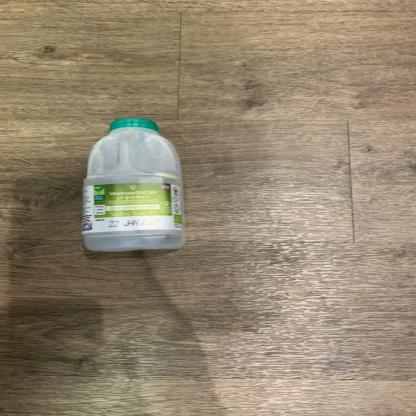trash: (79, 113, 190, 256)
